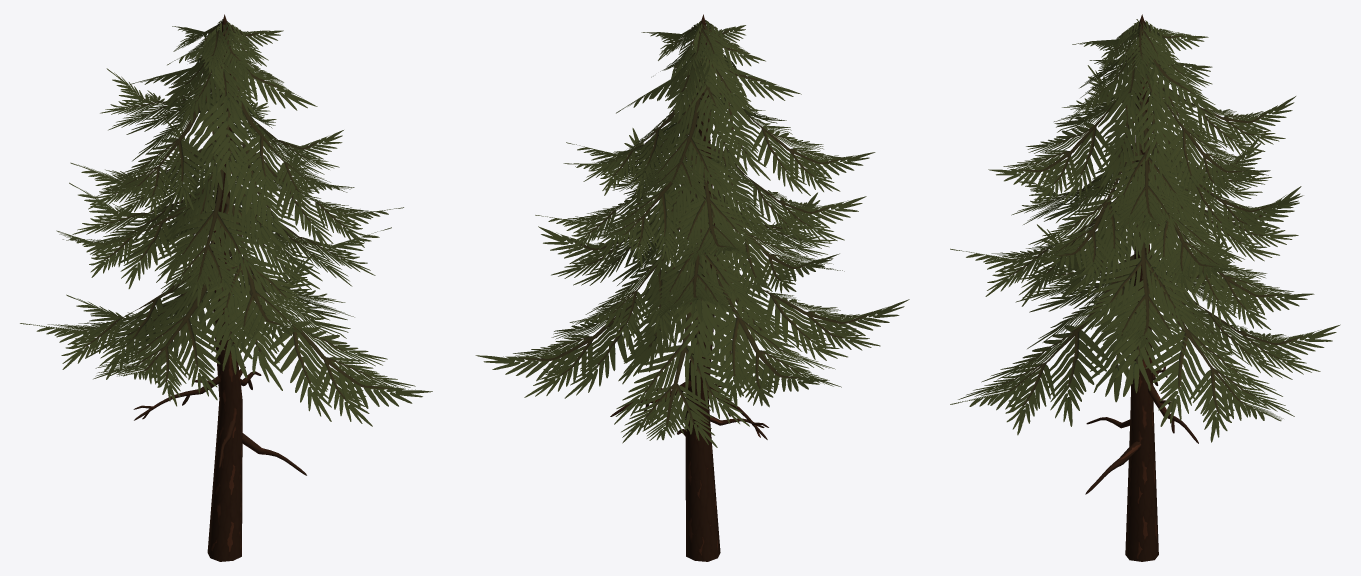
Rendered from pine_tree_1.glb.
The picture shows the model from 3 angles, left to right: view 1: azimuth 30°, elevation 25°; view 2: azimuth 150°, elevation 25°; view 3: azimuth 270°, elevation 25°; orthographic projection.
Parts seen in each view (by area): view 1: PineTree_12; view 2: PineTree_12; view 3: PineTree_12.
Boxes of the visible parts, left/top/right/bottom form: PineTree_12: left=20, top=14, right=432, bottom=561; PineTree_12: left=475, top=14, right=909, bottom=561; PineTree_12: left=950, top=14, right=1340, bottom=561.
Size of the model in its own units: 2.98 by 4.5 by 3.03.
2 materials, 2 textured.
